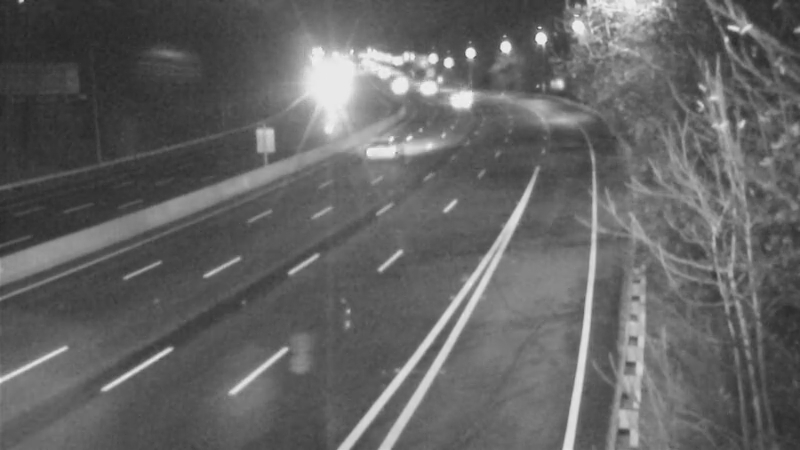vehicle: (344, 111, 424, 191), (376, 62, 426, 112), (404, 62, 454, 112), (430, 76, 480, 126), (302, 64, 352, 114)
